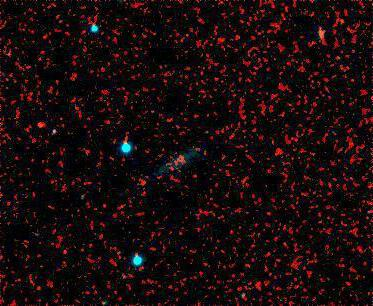star: (25, 111, 55, 141)
